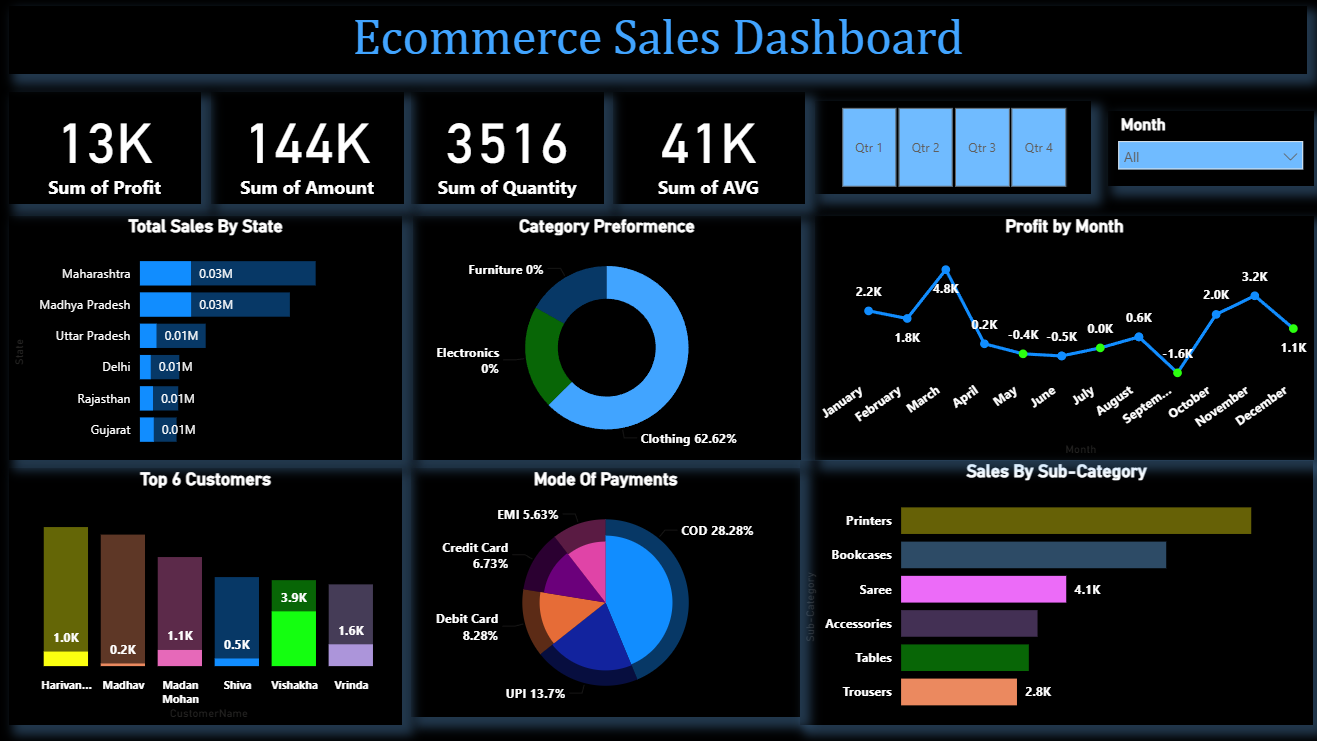

This screenshot's page, from the dashboard's own definition file:
{"tool":"powerbi","page":{"name":"Page 1","canvas":[1280,720],"ordinal":0},"visuals":[{"type":"textbox","box":[13.6,7.3,1252.7,66.4],"z":0},{"type":"card","fields":{"Values":["Sum(Details.Profit)"]},"box":[13.6,90,185.5,108.2],"z":1000},{"type":"card","fields":{"Values":["Sum(Details.Amount)"]},"box":[208.2,90,185.5,108.2],"z":2000},{"type":"card","fields":{"Values":["Sum(Details.Quantity)"]},"box":[401.8,90,185.5,108.2],"z":3000},{"type":"card","fields":{"Values":["Sum(Details.AVG)"]},"box":[596.4,90,185.5,108.2],"z":4000},{"type":"clusteredBarChart","title":"Total Sales By State","fields":{"Y":["Sum(Details.Amount)"],"Category":["Orders.State"]},"box":[13.6,210,380,236.4],"z":5000},{"type":"donutChart","title":"Category Preformence","fields":{"Y":["Sum(Details.Quantity)"],"Category":["Details.Category"]},"box":[402.7,210,375.5,236.4],"z":6000},{"type":"clusteredBarChart","title":"Sales By Sub-Category","fields":{"Category":["Details.Sub-Category"],"Y":["Sum(Details.Profit)"]},"box":[777.3,446.4,495.5,255.5],"z":7000},{"type":"columnChart","title":"Top 6 Customers","fields":{"Y":["Sum(Details.Amount)"],"Category":["Orders.CustomerName"]},"box":[13.6,453.6,380,248.2],"z":8000},{"type":"pieChart","title":"Mode Of Payments","fields":{"Y":["Sum(Details.Quantity)"],"Category":["Details.PaymentMode"]},"box":[401.8,453.6,375.5,240.9],"z":9000},{"type":"lineChart","title":"Profit by Month","fields":{"Category":["Orders.Order Date.Variation.Date Hierarchy.Month"],"Y":["Sum(Details.Profit)"]},"box":[790.9,210,481.8,236.4],"z":10000},{"type":"slicer","fields":{"Values":["Orders.Order Date.Variation.Date Hierarchy.Quarter"]},"box":[790.9,99.1,266.4,90],"z":10001},{"type":"slicer","fields":{"Values":["Orders.Order Date.Variation.Date Hierarchy.Month"]},"box":[1073.6,108.2,199.1,72.7],"z":10002}]}

Visuals, with their boxes in screenshot pixels (x1, y1, x2, y2), scaled from the page's 1280x720 canvas onto the 1317x741 screenshot:
textbox: bbox=(14, 8, 1303, 76)
card - Sum(Details.Profit): bbox=(14, 93, 205, 204)
card - Sum(Details.Amount): bbox=(214, 93, 405, 204)
card - Sum(Details.Quantity): bbox=(413, 93, 604, 204)
card - Sum(Details.AVG): bbox=(614, 93, 805, 204)
"Total Sales By State" clusteredBarChart: bbox=(14, 216, 405, 459)
"Category Preformence" donutChart: bbox=(414, 216, 801, 459)
"Sales By Sub-Category" clusteredBarChart: bbox=(800, 459, 1310, 722)
"Top 6 Customers" columnChart: bbox=(14, 467, 405, 722)
"Mode Of Payments" pieChart: bbox=(413, 467, 800, 715)
"Profit by Month" lineChart: bbox=(814, 216, 1309, 459)
slicer - Orders.Order Date.Variation.Date Hierarchy.Quarter: bbox=(814, 102, 1088, 195)
slicer - Orders.Order Date.Variation.Date Hierarchy.Month: bbox=(1105, 111, 1309, 186)
